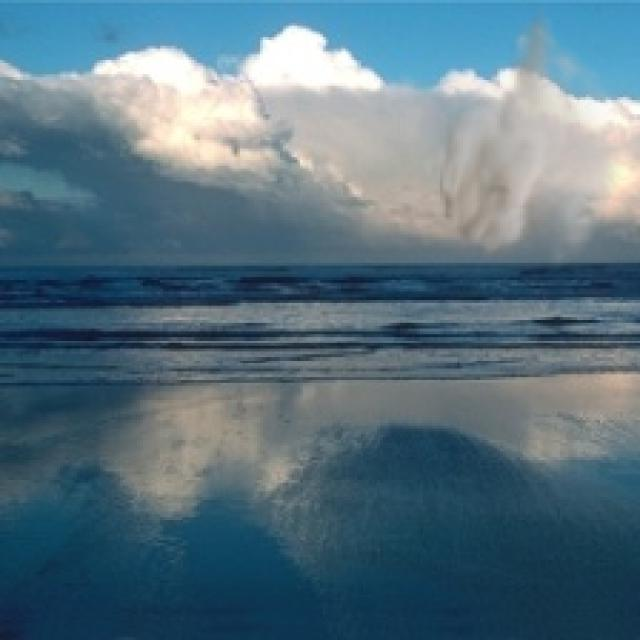Smoke: (421, 3, 628, 283)
